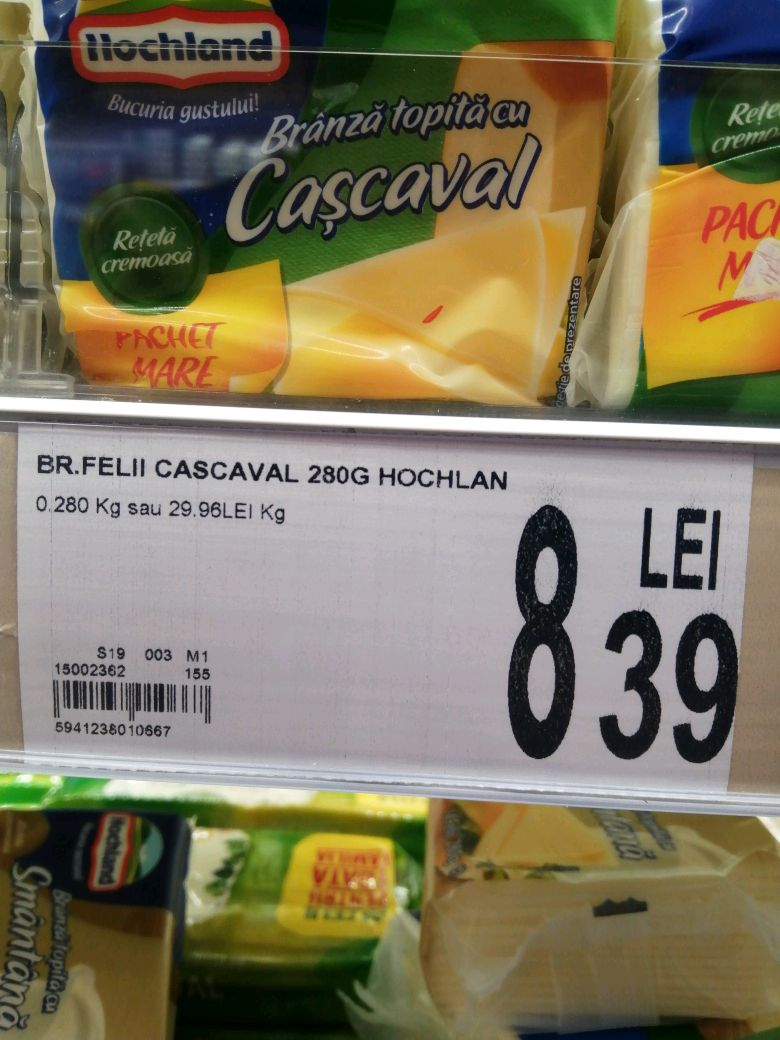price_bani: (597, 601, 741, 772)
price_lei: (493, 493, 586, 767)
price_tag: (9, 413, 763, 805)
product_id: (50, 716, 184, 746)
product_name: (31, 442, 525, 494)
